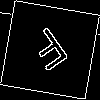F: (25, 25, 77, 81)
